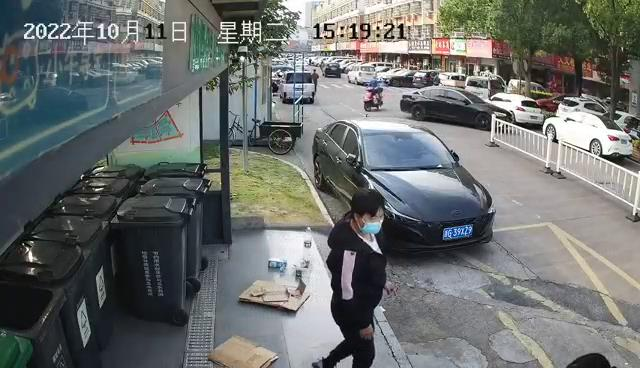person: (311, 189, 392, 368)
suliaozhipin: (303, 225, 314, 262)
zhizhipin: (237, 277, 311, 313), (205, 333, 279, 368), (268, 256, 289, 272)
